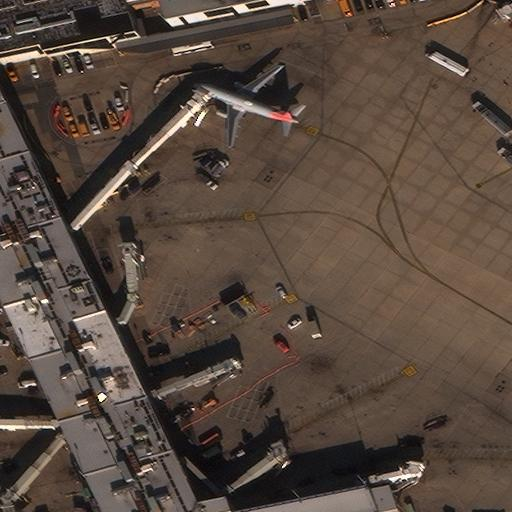Medium Civil Transport: (193, 64, 298, 146)
